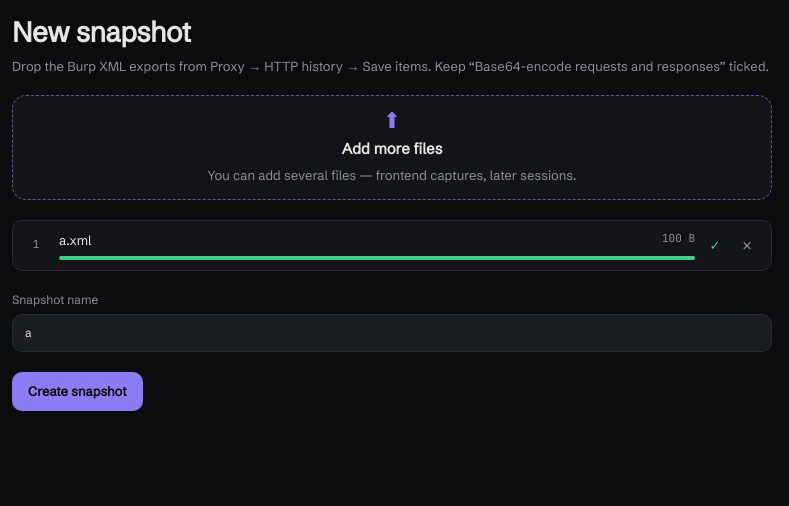
Test: a validation error is shown, and the stale uploads are discarded
Click the button "Create snapshot" at (77, 391), box [12,372,143,410]
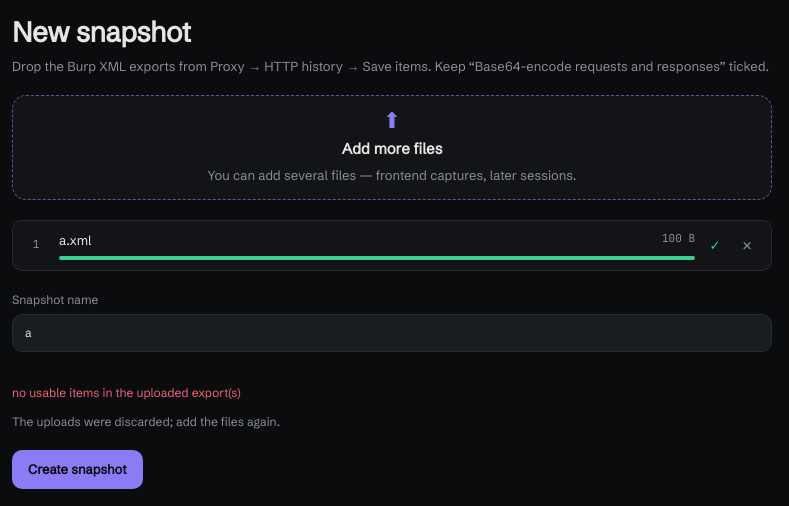
Expected: the message reads "no usable items in the uploaded export(s)", [12,385,241,400]
Expected: the text "The uploads were discarded; add the files again." is shown, [12,414,280,429]
